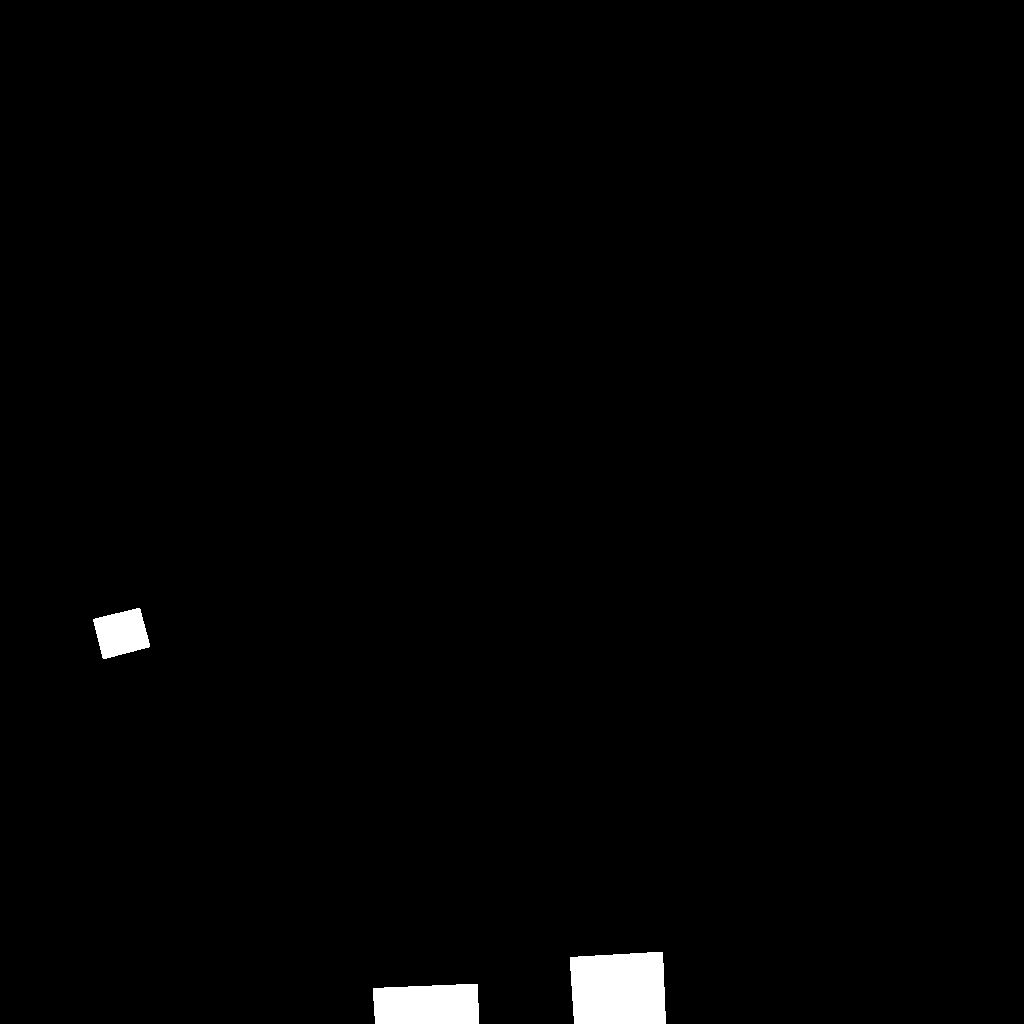building: (373, 952, 667, 1024), (93, 608, 151, 660)
